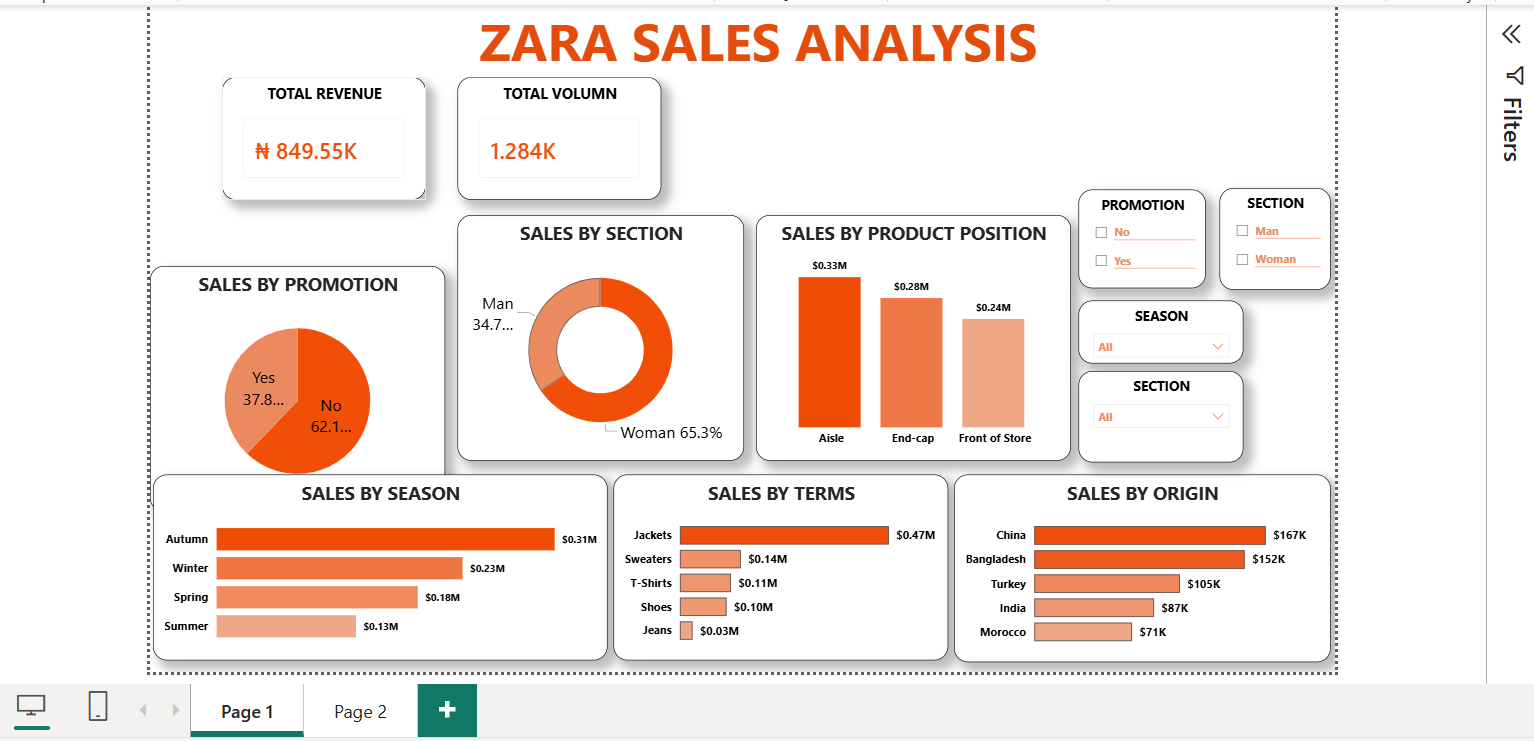

This screenshot's page, from the dashboard's own definition file:
{"tool":"powerbi","page":{"name":"Page 1","canvas":[1280,720],"ordinal":0},"visuals":[{"type":"cardVisual","title":"TOTAL REVENUE","fields":{"Data":["Sum(Zara_sales_EDA Raw Datasets.price)"]},"box":[77.7,77.7,220.2,132.8],"z":0},{"type":"pieChart","title":"SALES BY PROMOTION","fields":{"Category":["Zara_sales_EDA Raw Datasets.Promotion"],"Y":["Sum(Zara_sales_EDA Raw Datasets.price)"]},"box":[0,281.7,319,265.6],"z":1000},{"type":"donutChart","title":"SALES BY SECTION","fields":{"Category":["Zara_sales_EDA Raw Datasets.section"],"Y":["Sum(Zara_sales_EDA Raw Datasets.price)"]},"box":[331.9,226.7,309.3,265.6],"z":2000},{"type":"barChart","title":"SALES BY SEASON","fields":{"Category":["Zara_sales_EDA Raw Datasets.season"],"Y":["Sum(Zara_sales_EDA Raw Datasets.price)"]},"box":[3.2,506.8,490.6,200.8],"z":3000},{"type":"columnChart","title":"SALES BY PRODUCT POSITION","fields":{"Category":["Zara_sales_EDA Raw Datasets.Product Position"],"Y":["Sum(Zara_sales_EDA Raw Datasets.price)"]},"box":[654.2,226.7,340,265.6],"z":4000},{"type":"barChart","title":"SALES BY TERMS","fields":{"Y":["Sum(Zara_sales_EDA Raw Datasets.price)"],"Category":["Zara_sales_EDA Raw Datasets.terms"]},"box":[500.3,506.8,361.1,200.8],"z":5000},{"type":"slicer","title":"PROMOTION","fields":{"Values":["Zara_sales_EDA Raw Datasets.Promotion"]},"box":[1002.3,199.2,137.6,106.9],"z":6000},{"type":"slicer","title":"SECTION","fields":{"Values":["Zara_sales_EDA Raw Datasets.section"]},"box":[1154.5,197.5,119.8,110.1],"z":7000},{"type":"slicer","title":"SEASON","fields":{"Values":["Zara_sales_EDA Raw Datasets.season"]},"box":[1002.3,319,178.1,68],"z":8000},{"type":"barChart","title":"SALES BY ORIGIN","fields":{"Y":["Sum(Zara_sales_EDA Raw Datasets.price)"],"Category":["Zara_sales_EDA Raw Datasets.origin"]},"box":[867.9,506.8,406.4,202.4],"z":9000},{"type":"slicer","title":"SECTION","fields":{"Values":["Zara_sales_EDA Raw Datasets.terms"]},"box":[1002.3,395.1,178.1,98.8],"z":10000},{"type":"cardVisual","title":"TOTAL VOLUMN","fields":{"Data":["Count(Zara_sales_EDA Raw Datasets.Sales Volume)"]},"box":[331.9,77.7,220.2,132.8],"z":11000},{"type":"textbox","title":"ZARA SALES ANALYSIS","box":[32.4,0,1248.4,77.7],"z":13000}]}

Visuals, with their boxes on the page's 1280x720 design canvas (x1, y1, x2, y2). These are canvas units, not pixel positions in the 1534x741 screenshot, which may show the page scaled, cropped or inside an application window:
"TOTAL REVENUE" cardVisual: x1=78, y1=78, x2=298, y2=210
"SALES BY PROMOTION" pieChart: x1=0, y1=282, x2=319, y2=547
"SALES BY SECTION" donutChart: x1=332, y1=227, x2=641, y2=492
"SALES BY SEASON" barChart: x1=3, y1=507, x2=494, y2=708
"SALES BY PRODUCT POSITION" columnChart: x1=654, y1=227, x2=994, y2=492
"SALES BY TERMS" barChart: x1=500, y1=507, x2=861, y2=708
"PROMOTION" slicer: x1=1002, y1=199, x2=1140, y2=306
"SECTION" slicer: x1=1154, y1=198, x2=1274, y2=308
"SEASON" slicer: x1=1002, y1=319, x2=1180, y2=387
"SALES BY ORIGIN" barChart: x1=868, y1=507, x2=1274, y2=709
"SECTION" slicer: x1=1002, y1=395, x2=1180, y2=494
"TOTAL VOLUMN" cardVisual: x1=332, y1=78, x2=552, y2=210
"ZARA SALES ANALYSIS" textbox: x1=32, y1=0, x2=1281, y2=78
